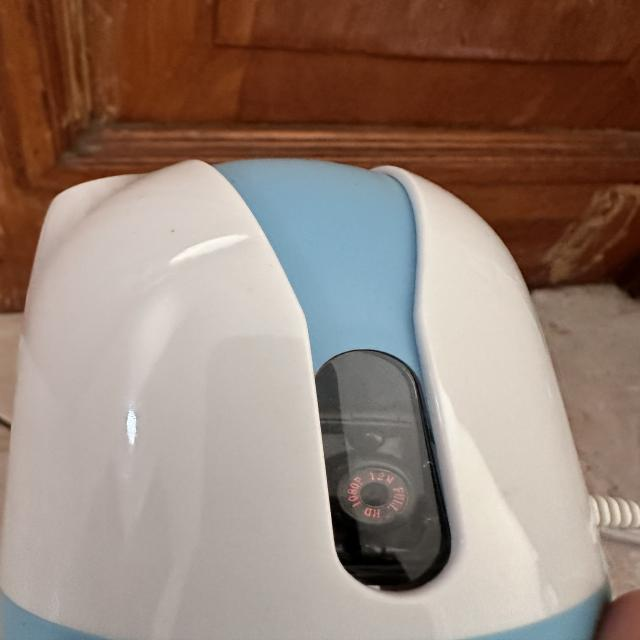hidden camera: (340, 467, 409, 520)
